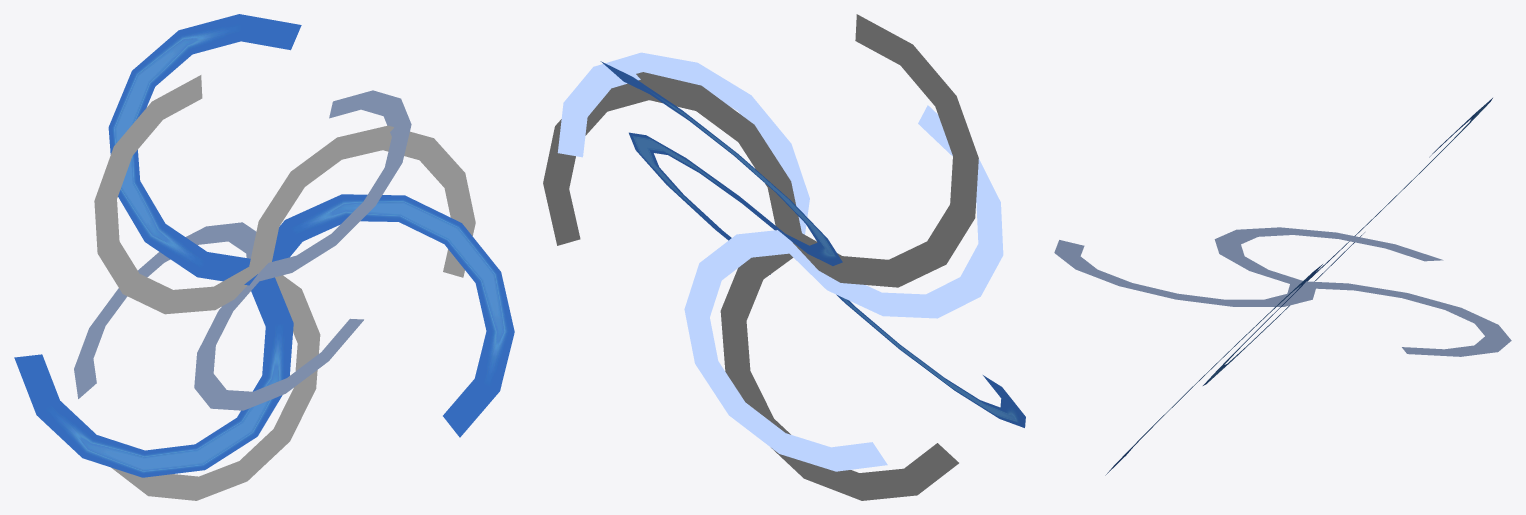
File: tx_pet_lanji_fire.obj
3 views of the same model, side by side, from view 1: azimuth 30°, elevation 25°; view 2: azimuth 150°, elevation 25°; view 3: azimuth 270°, elevation 25° (orthographic). The views are drawn at different scales.
Visible parts, largest first — view 1: Plane15, Plane13, Plane14, Plane02, Plane01, Plane03, Plane09, Plane07, Plane08; view 2: Plane02, Plane08, Plane01, Plane03, Plane09, Plane07, Plane14, Plane13, Plane15; view 3: Plane09, Plane08, Plane07.
Boxes of the visible parts, x1,y1,x2,y2 form: Plane15: [14, 277, 293, 477]; Plane13: [246, 194, 514, 437]; Plane14: [108, 14, 301, 286]; Plane02: [94, 75, 258, 314]; Plane01: [247, 125, 475, 277]; Plane03: [111, 267, 320, 500]; Plane09: [253, 90, 411, 282]; Plane07: [194, 275, 363, 410]; Plane08: [74, 222, 268, 398]; Plane02: [792, 14, 978, 287]; Plane08: [684, 230, 887, 471]; Plane01: [543, 72, 803, 245]; Plane03: [720, 253, 958, 500]; Plane09: [557, 52, 809, 234]; Plane07: [781, 105, 1003, 318]; Plane14: [600, 61, 842, 265]; Plane13: [629, 132, 789, 274]; Plane15: [836, 294, 1025, 427]; Plane09: [1214, 227, 1443, 286]; Plane08: [1296, 281, 1511, 356]; Plane07: [1054, 240, 1315, 306].
Size of the model in its own units: 58.54 by 55.08 by 49.63.
